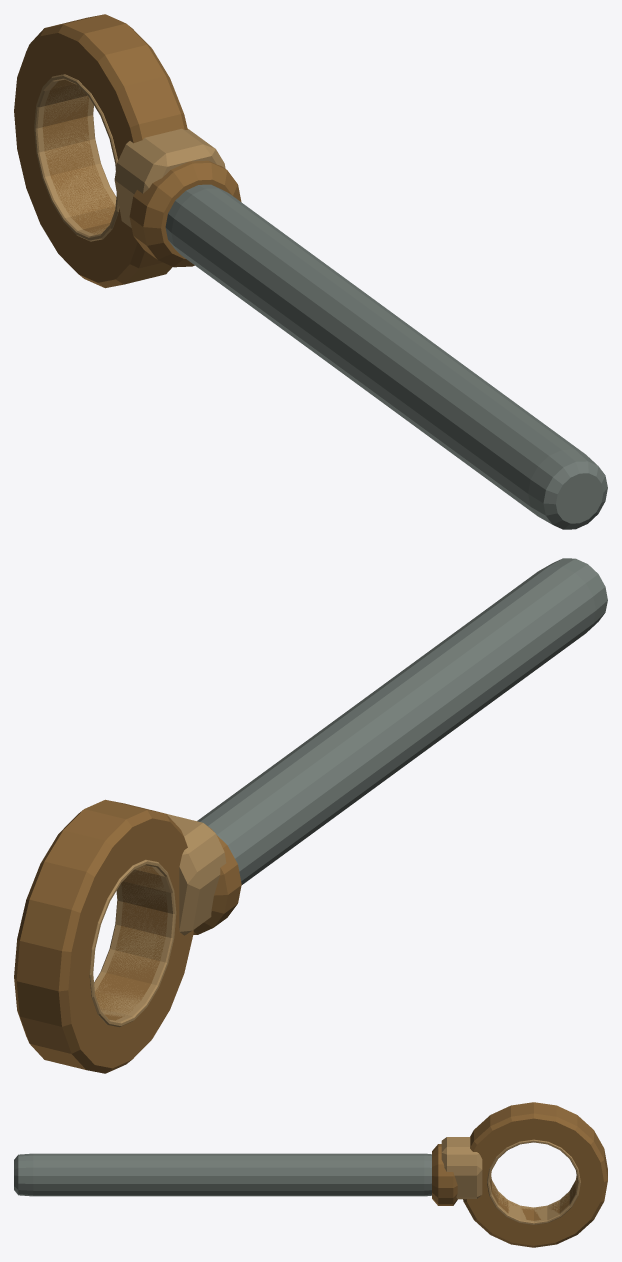
Rendered from PULL_PIN.lo.glb.
3 views of the same model, one above another, from view 1: azimuth 30°, elevation 25°; view 2: azimuth 150°, elevation 25°; view 3: azimuth 270°, elevation 25° (orthographic). The views are drawn at different scales.
Parts seen in each view (by area): view 1: ShaftStretch_Mesh, Grip_Mesh; view 2: Grip_Mesh, ShaftStretch_Mesh; view 3: ShaftStretch_Mesh, Grip_Mesh.
Part boxes in pixels (box(x1,y1,x2,y2)): ShaftStretch_Mesh: box(165, 184, 607, 529); Grip_Mesh: box(14, 14, 241, 288); Grip_Mesh: box(14, 799, 241, 1073); ShaftStretch_Mesh: box(197, 558, 607, 884); ShaftStretch_Mesh: box(14, 1153, 431, 1196); Grip_Mesh: box(432, 1102, 607, 1247).
Size of the model in its own units: 0.29 by 0.69 by 2.77.
